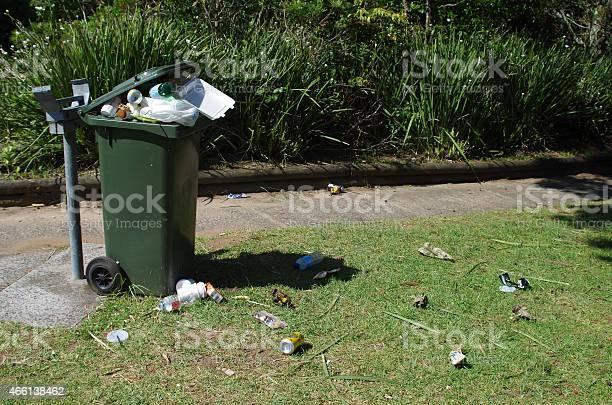bottle: (154, 282, 208, 314), (294, 246, 327, 275), (147, 82, 179, 99), (101, 96, 118, 117), (126, 88, 144, 105)
